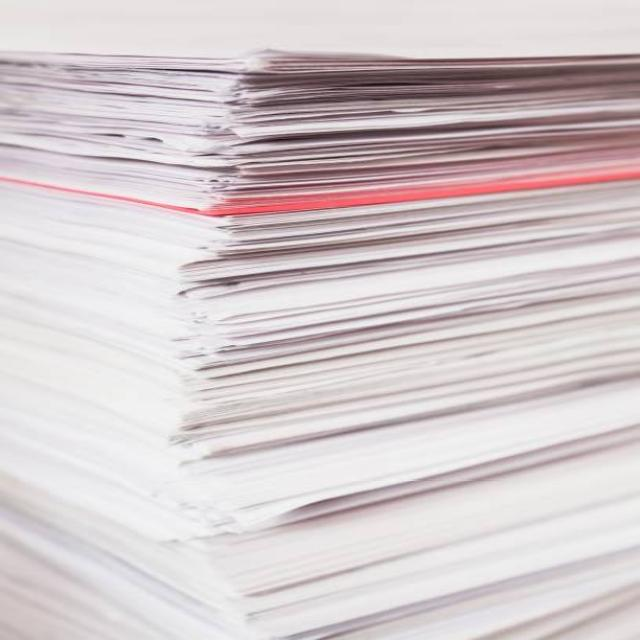electronic: (0, 41, 638, 639)
